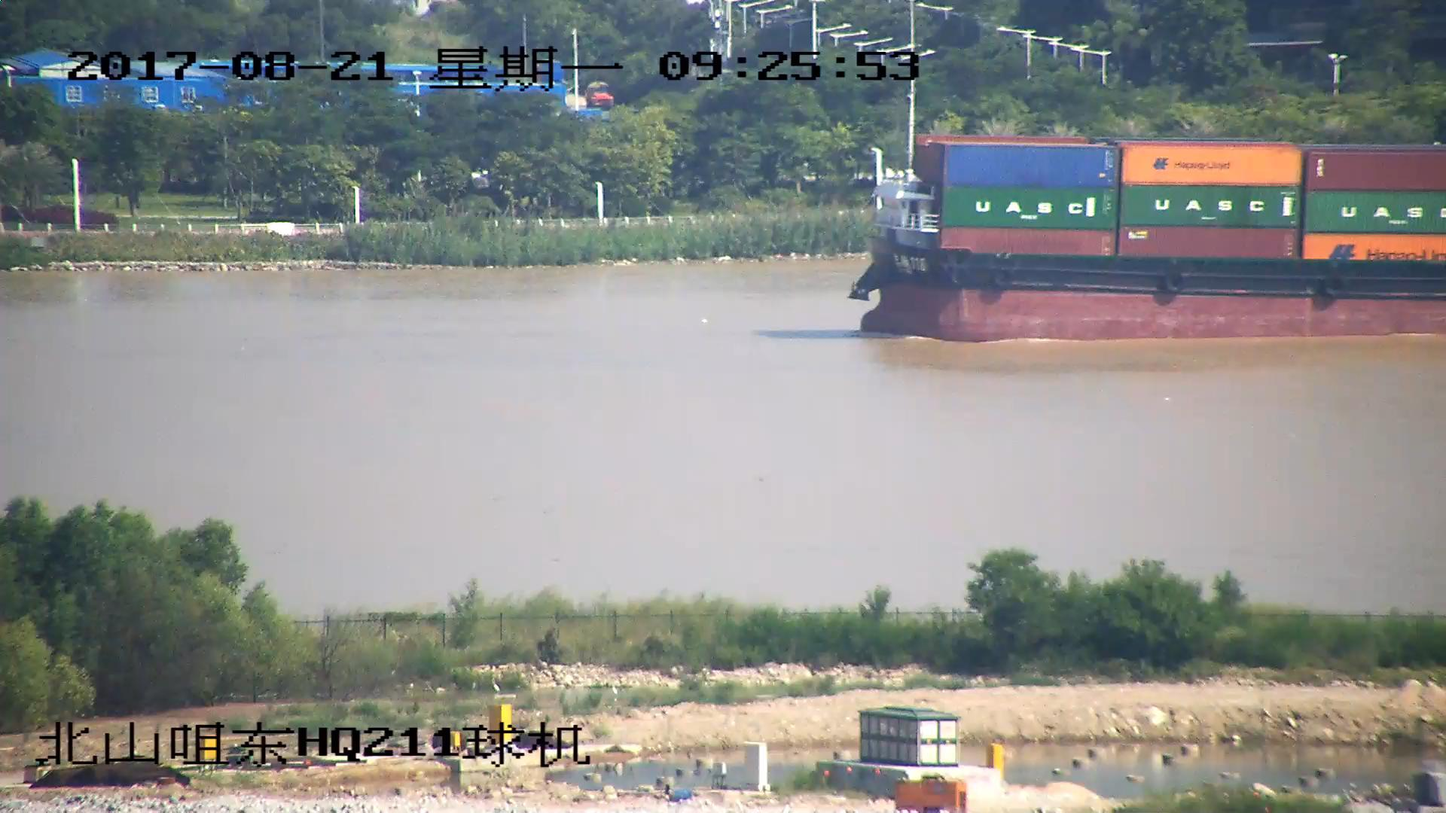container ship: (845, 82, 1445, 337)
